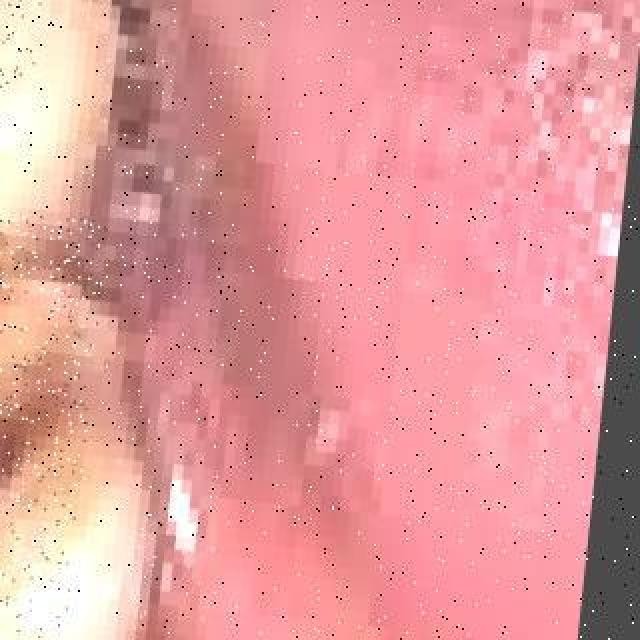cavities: (0, 258, 116, 638), (0, 0, 6, 112)
